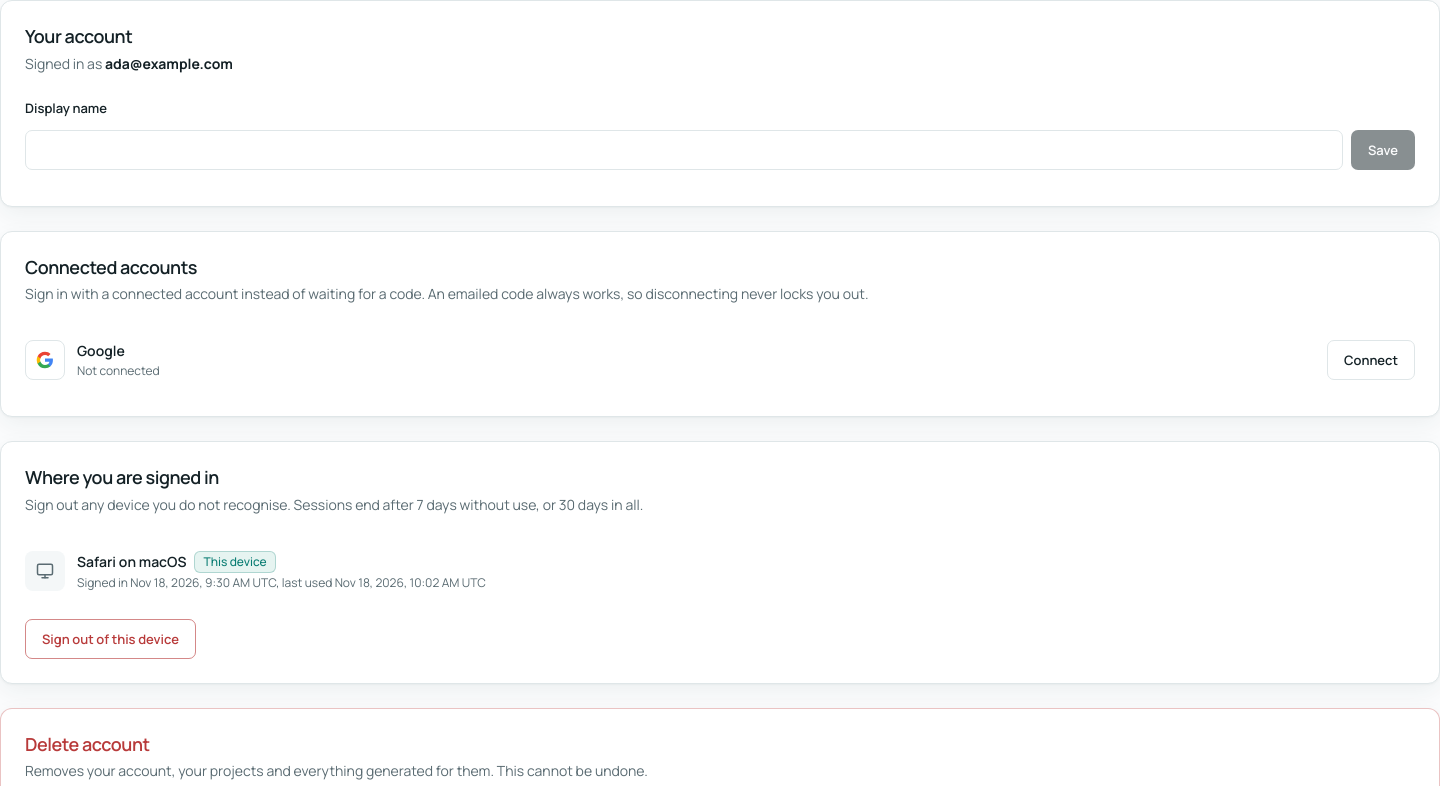
Test: AccountView: connected accounts › shows a connect failure (unavailable) and stays on the page
This screenshot has width=1440, height=786.
Click the button with aria-label "Connect Google" at [1371, 360], box 1327,340 -> 1415,380
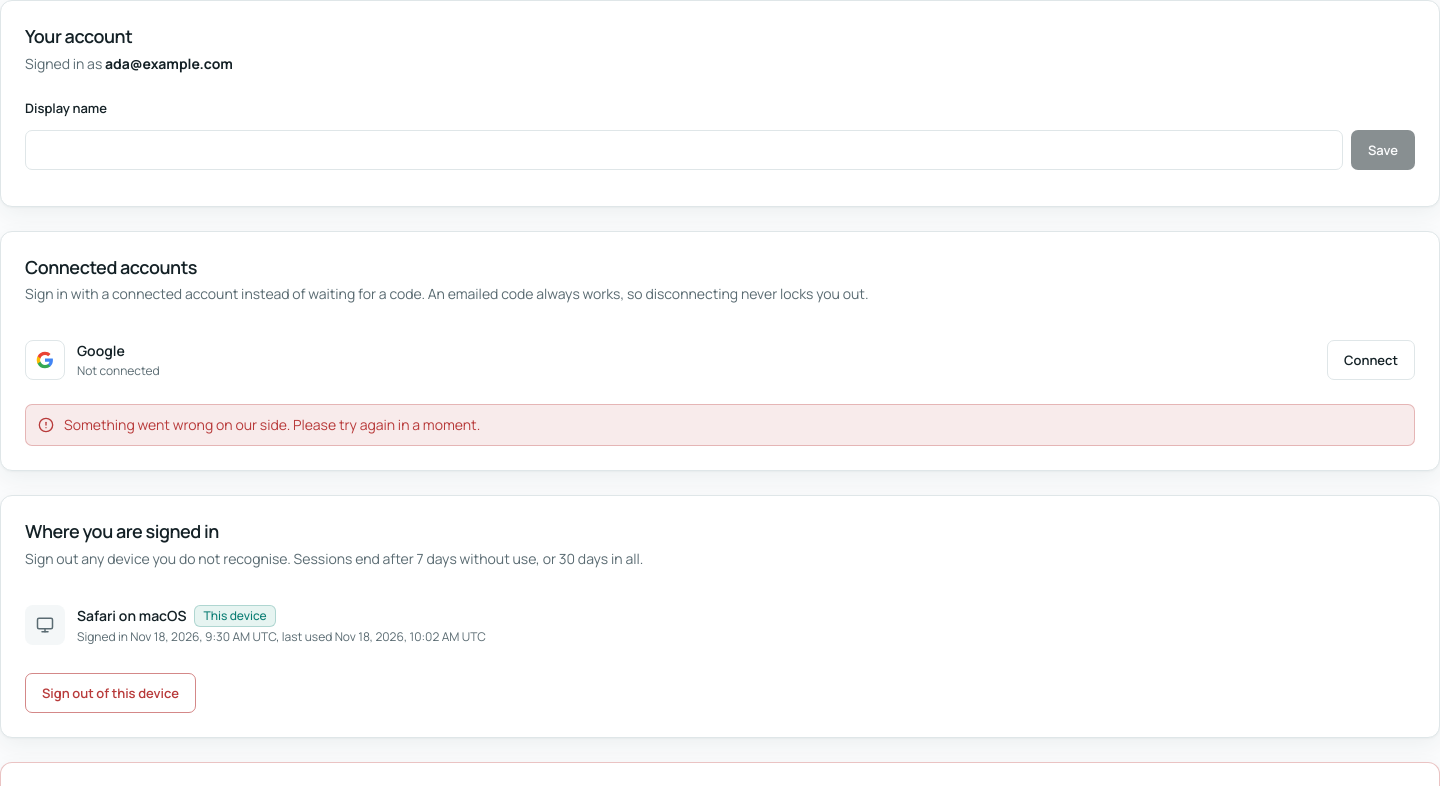
Result: the message shows "Something went wrong" at 64,415 -> 480,434
